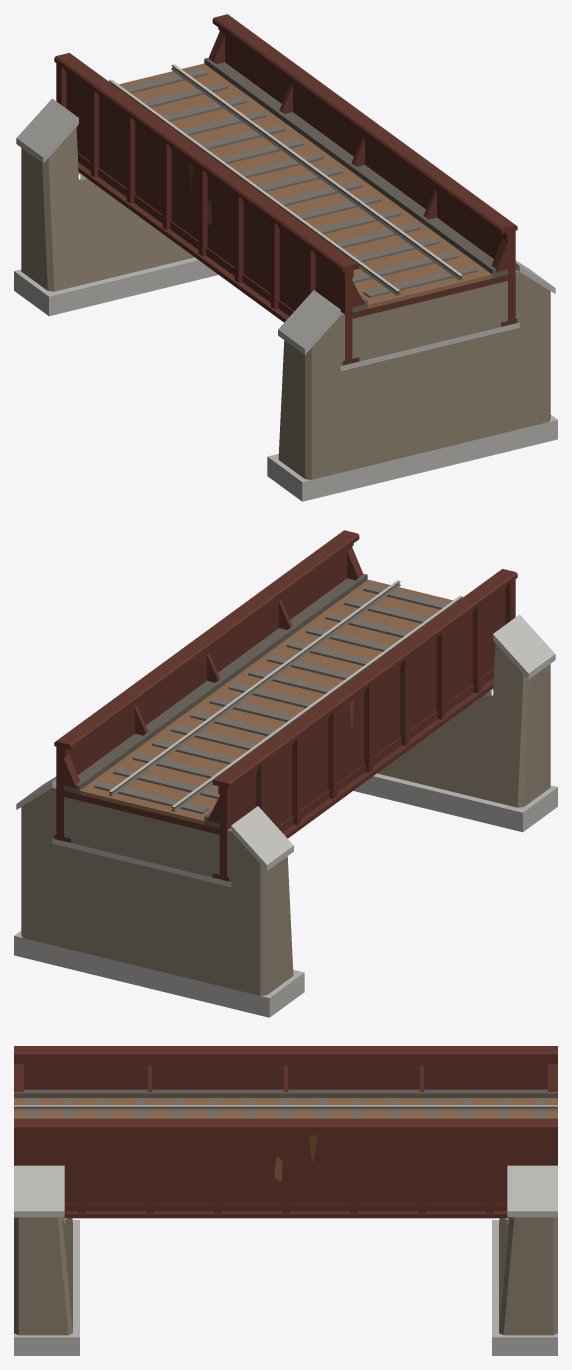
Rendered from steel-girder-bridge-d80bb4.glb.
3 views of the same model, one above another, from view 1: azimuth 30°, elevation 25°; view 2: azimuth 150°, elevation 25°; view 3: azimuth 270°, elevation 25° (orthographic). The views are drawn at different scales.
Visible parts, largest first — view 1: steel-girder-bridge-body; view 2: steel-girder-bridge-body; view 3: steel-girder-bridge-body.
Boxes of the visible parts, x1,y1,x2,y2 form: steel-girder-bridge-body: (14, 14, 557, 501); steel-girder-bridge-body: (14, 530, 557, 1017); steel-girder-bridge-body: (14, 1046, 557, 1355).
Size of the model in its own units: 6.14 by 5.15 by 12.
